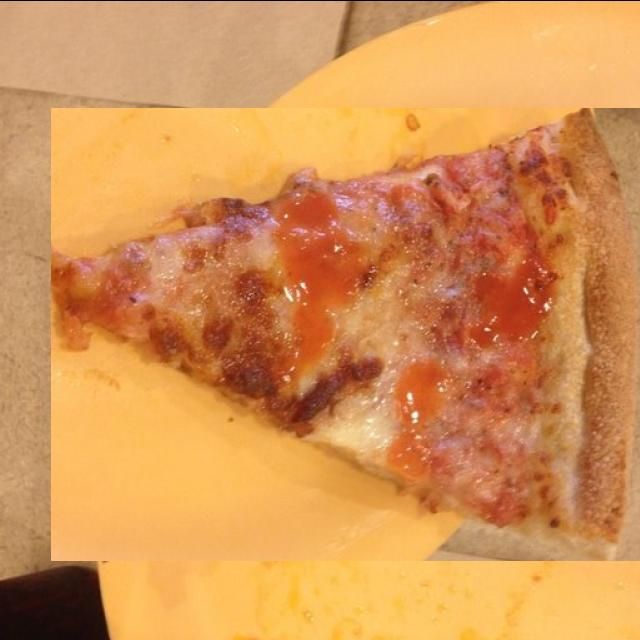pizza: (51, 107, 640, 560)
